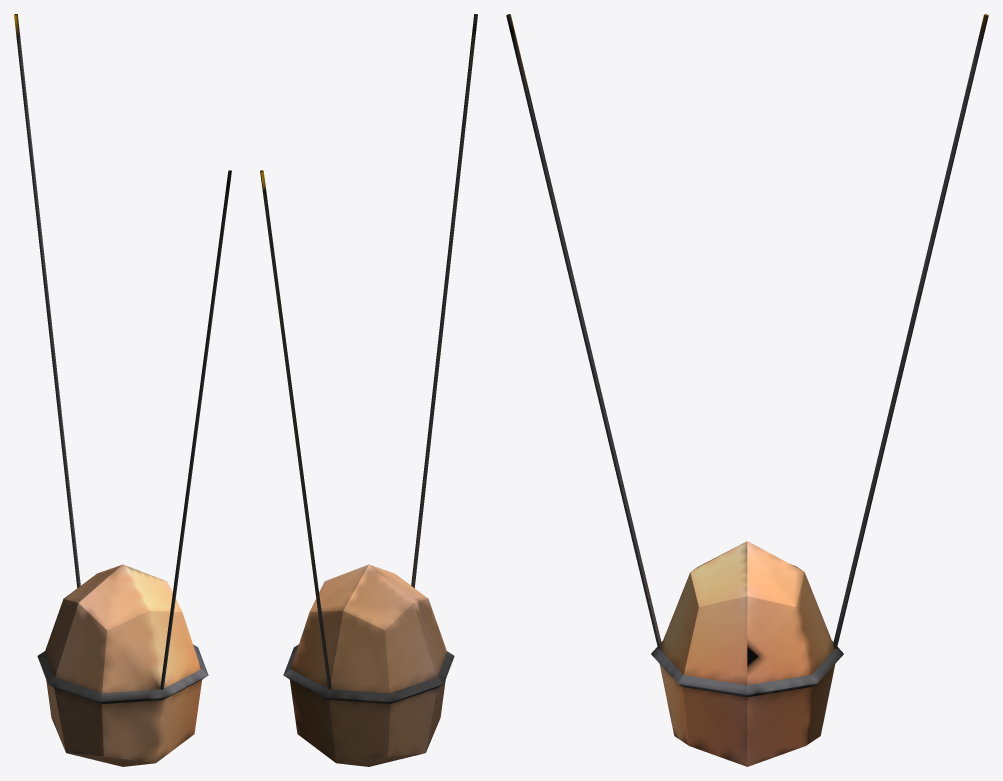
The model's file is SM_Egg_Left.fbx.
3 renders of one model, left to right at view 1: azimuth 30°, elevation 25°; view 2: azimuth 150°, elevation 25°; view 3: azimuth 270°, elevation 25°, orthographic. The views are drawn at different scales.
Parts seen in each view (by area): view 1: Egg_Left; view 2: Egg_Left; view 3: Egg_Left.
Part boxes in pixels (left/top/right/bottom): Egg_Left: left=14, top=14, right=231, bottom=766; Egg_Left: left=260, top=14, right=477, bottom=766; Egg_Left: left=506, top=14, right=988, bottom=766.
Bounding box in the file's own units: 3.43 × 14.72 × 8.56.
